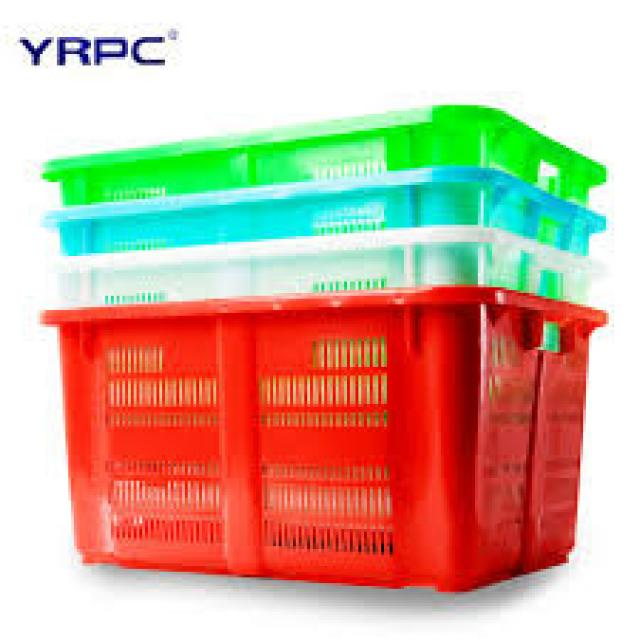basket: (33, 273, 610, 598), (42, 105, 609, 303)
